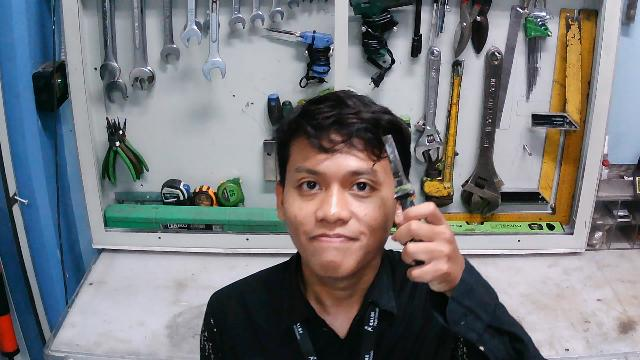tang_kombinasi: (376, 133, 435, 267)
